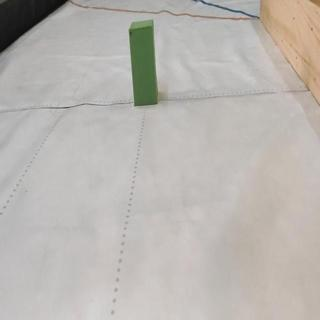greenbox: (130, 23, 158, 109)
